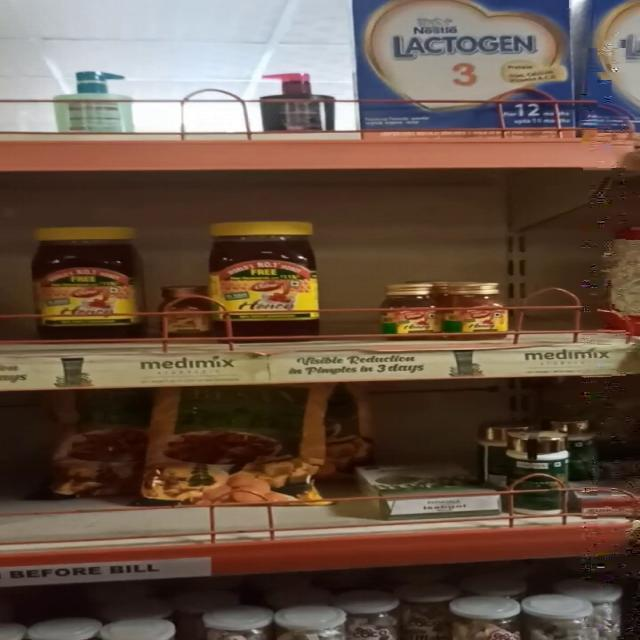Dabur Honey: (28, 220, 150, 338), (212, 216, 330, 334), (449, 280, 514, 342), (383, 280, 442, 338), (158, 282, 217, 333)
